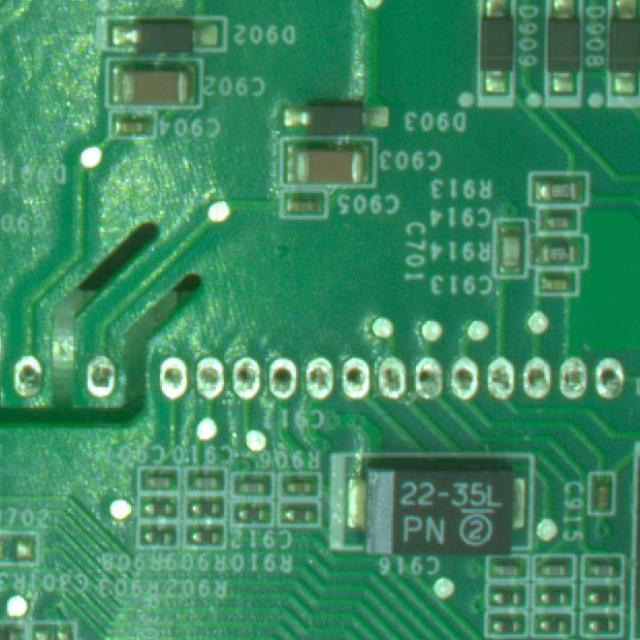Insufficient solder: (260, 339, 304, 404), (408, 336, 447, 402), (230, 336, 266, 402), (298, 336, 334, 400), (190, 338, 226, 400), (338, 336, 370, 404), (594, 346, 632, 402), (374, 332, 406, 398), (479, 346, 515, 402), (13, 340, 46, 400), (554, 351, 592, 402), (158, 336, 189, 398), (519, 344, 551, 404), (448, 340, 478, 402), (84, 351, 118, 398)
